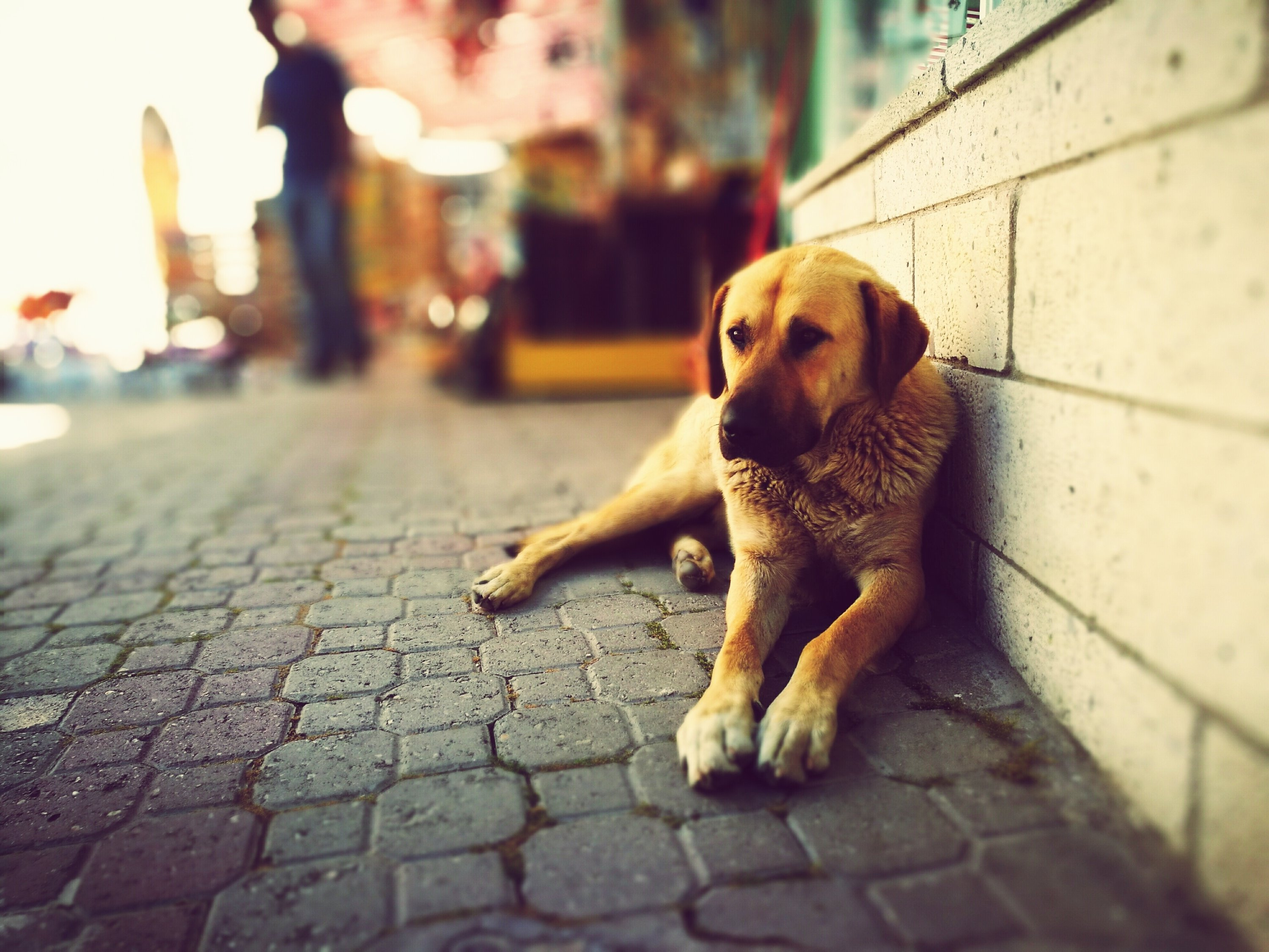Dog: (449, 223, 974, 807)
